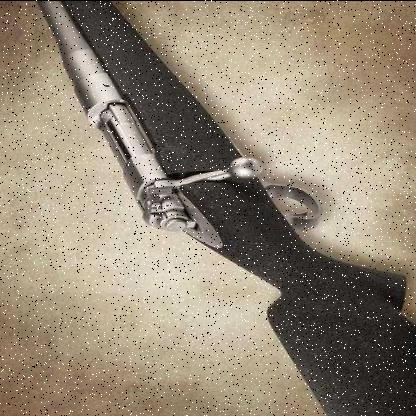rifle: (23, 1, 415, 416)
